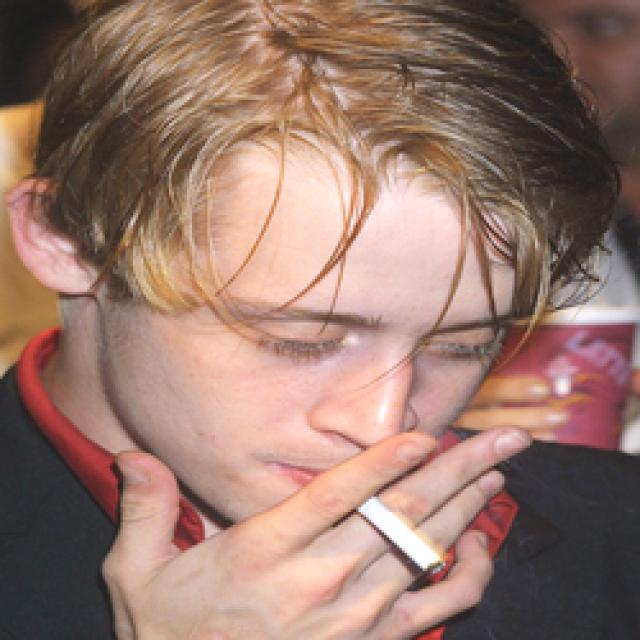Smooking: (364, 486, 458, 600)
